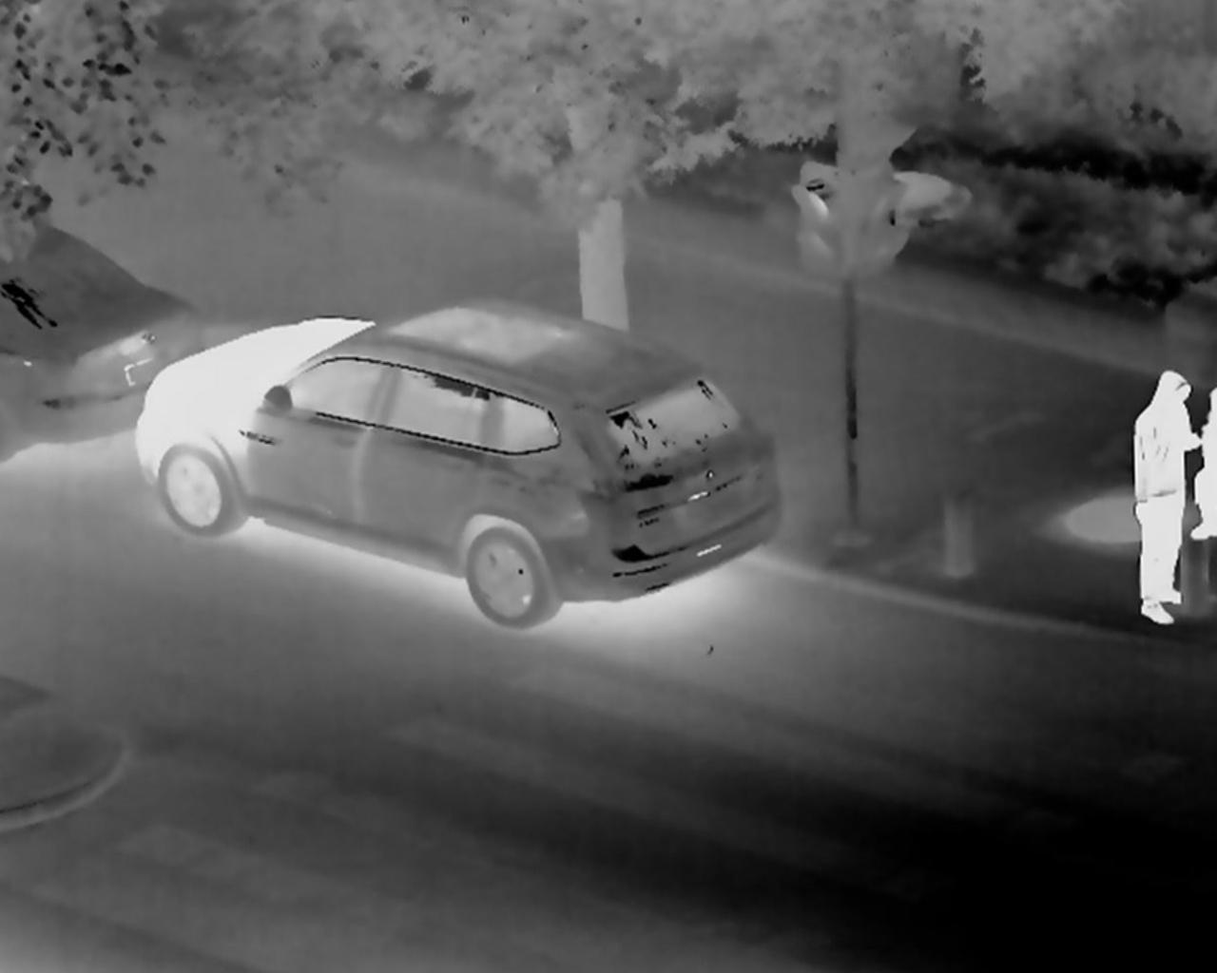person: (1128, 365, 1204, 626)
